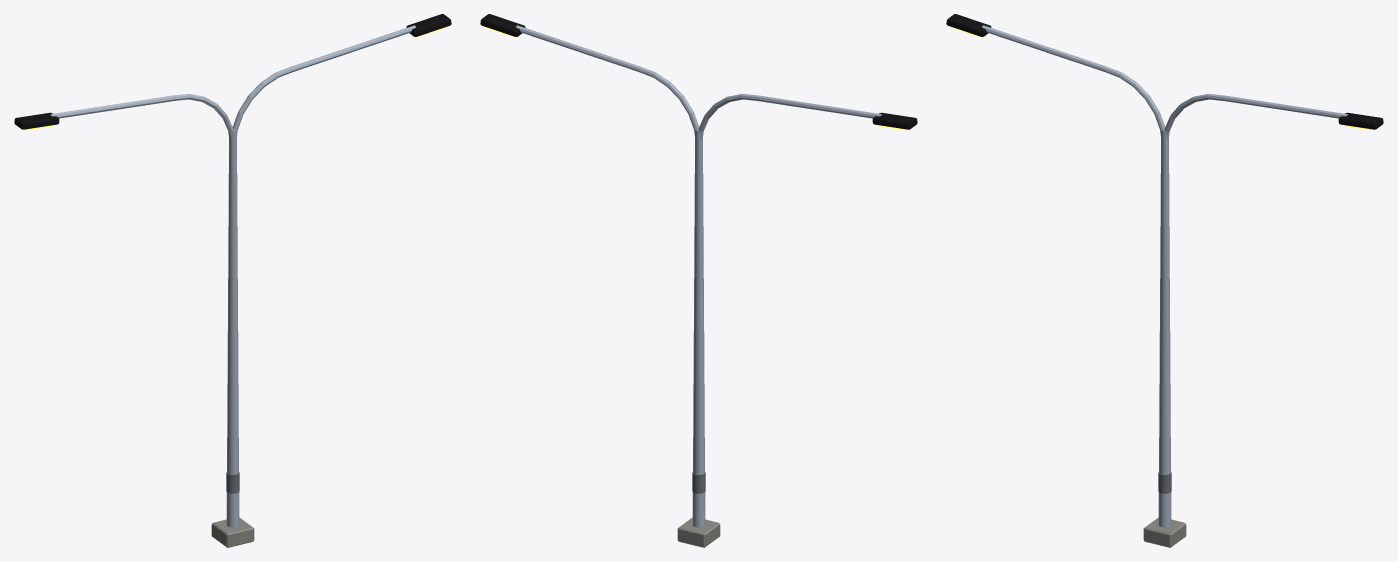
File: lamp_arc_twin.glb
3 renders of one model, left to right at view 1: azimuth 30°, elevation 25°; view 2: azimuth 150°, elevation 25°; view 3: azimuth 330°, elevation 25°, orthographic.
Visible parts, largest first — view 1: steel, plastic_black, concrete; view 2: steel, plastic_black, concrete; view 3: steel, plastic_black, concrete.
Part boxes in pixels (x1=…): steel: x1=49, y1=25, x2=415, y2=527; plastic_black: x1=14, y1=14, x2=451, y2=129; concrete: x1=211, y1=517, x2=254, y2=547; steel: x1=516, y1=25, x2=882, y2=527; plastic_black: x1=480, y1=14, x2=917, y2=129; concrete: x1=677, y1=517, x2=720, y2=547; steel: x1=982, y1=25, x2=1348, y2=527; plastic_black: x1=946, y1=14, x2=1383, y2=129; concrete: x1=1143, y1=517, x2=1186, y2=547.
Bounding box in the file's own units: 10.85 × 11.36 × 0.7.
